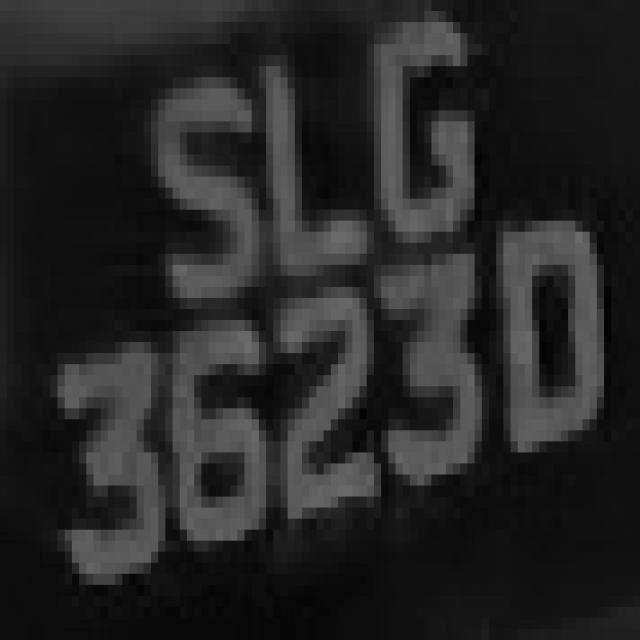2: (252, 276, 388, 530)
3: (36, 342, 158, 607), (374, 276, 503, 496)
6: (151, 298, 266, 574)
D: (489, 198, 611, 464)
G: (367, 22, 489, 232)
L: (244, 33, 388, 298)
S: (122, 66, 266, 298)
